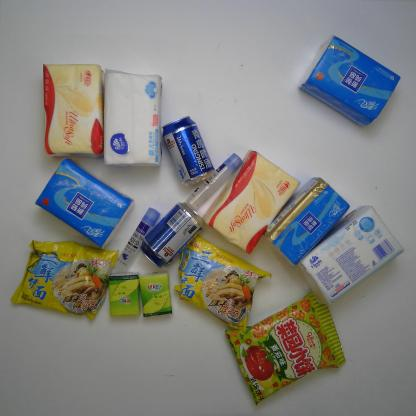Alcohol: (141, 109, 217, 186), (138, 197, 209, 267)
Instant Noodles: (164, 233, 287, 333), (1, 221, 118, 322)
Puffed Food: (210, 283, 363, 404)
Stationery: (183, 147, 246, 207), (118, 204, 163, 267)
Tissue: (197, 147, 303, 260), (300, 198, 406, 311), (298, 19, 408, 124), (18, 163, 136, 254), (89, 59, 170, 180), (256, 175, 356, 269), (27, 51, 105, 166), (132, 271, 182, 326), (101, 267, 139, 324)
